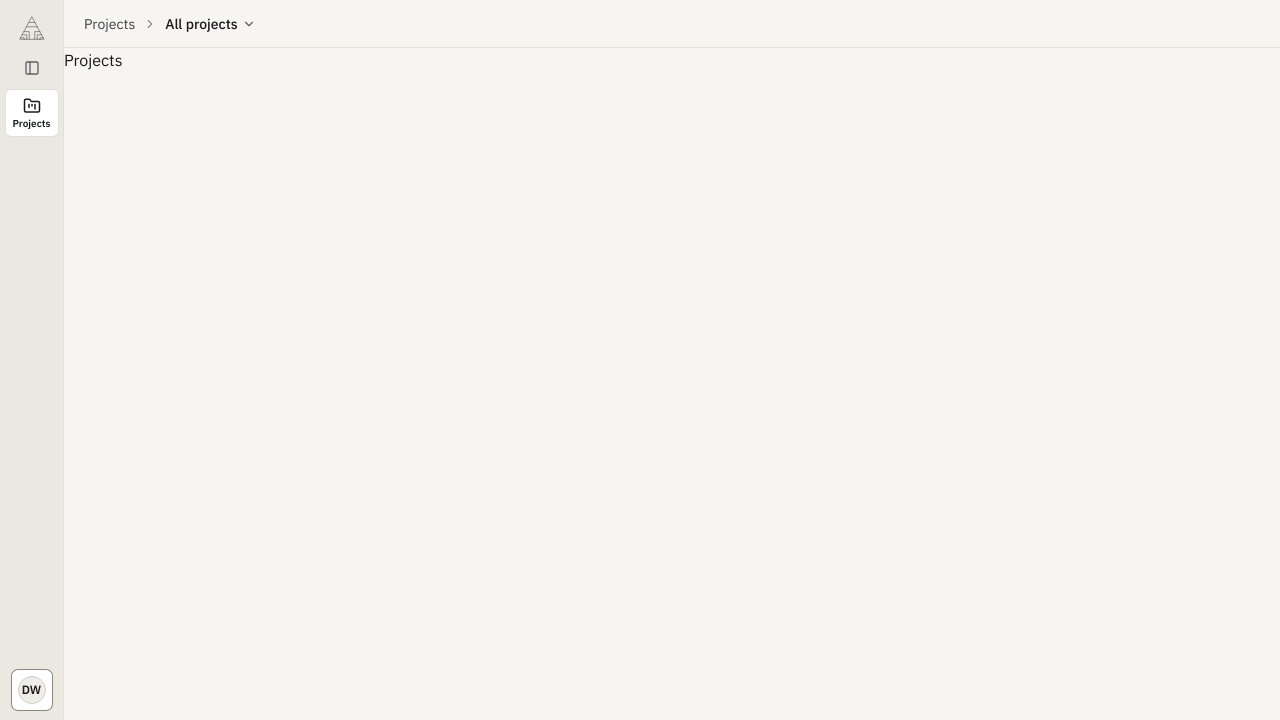
Test: leaves the stored XL preference alone when the overlay is opened and closed at L
The width and height of the screenshot is (1280, 720).
Step 1. Click the button named "Show workspace views" → (32, 68), box [14, 50, 50, 86]
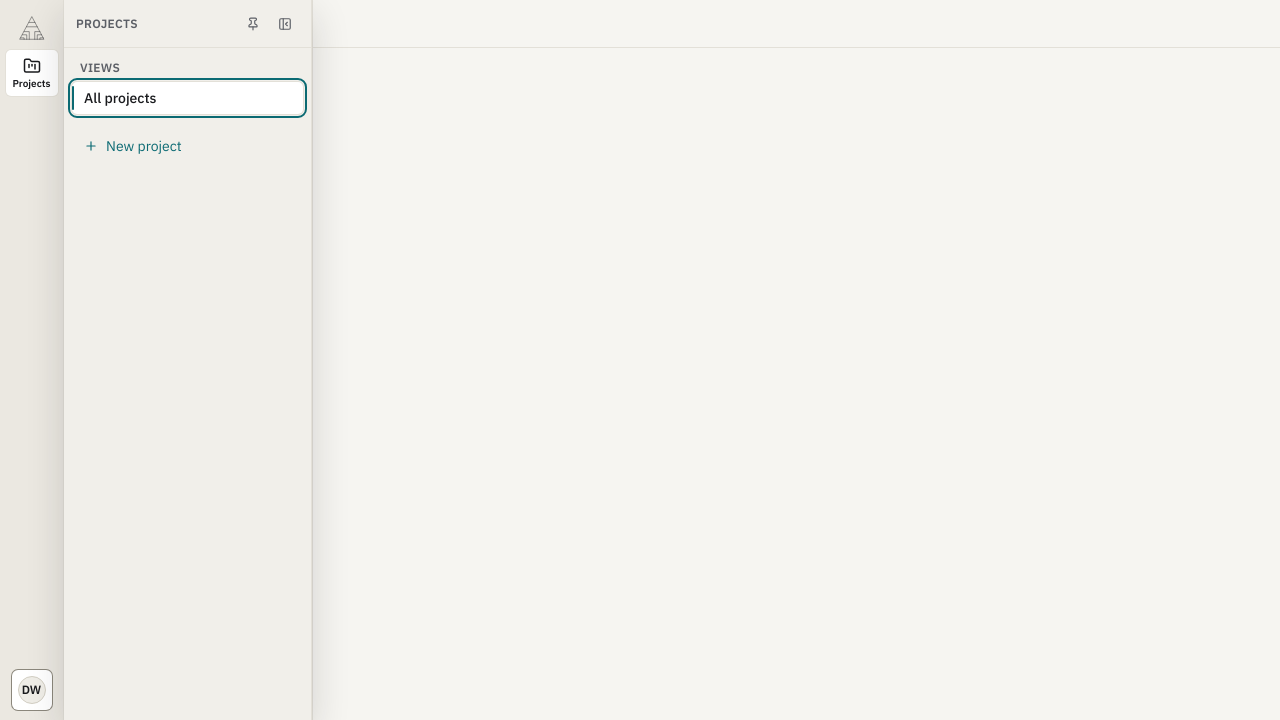
Now the navigation bar named "Projects views" is shown, box [64, 48, 311, 174]
Step 2. Click the 2nd button named "Collapse workspace views" → (285, 24), box [271, 10, 299, 38]
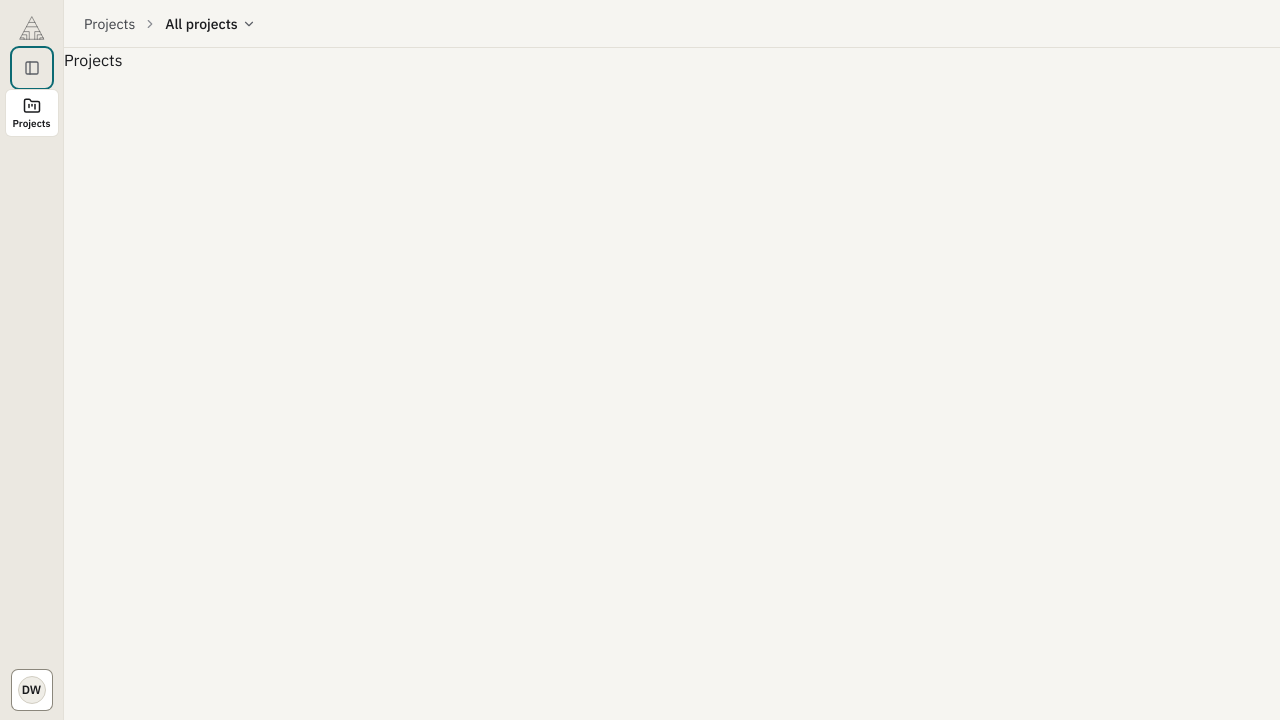
Now the navigation bar "Projects Views" is gone
